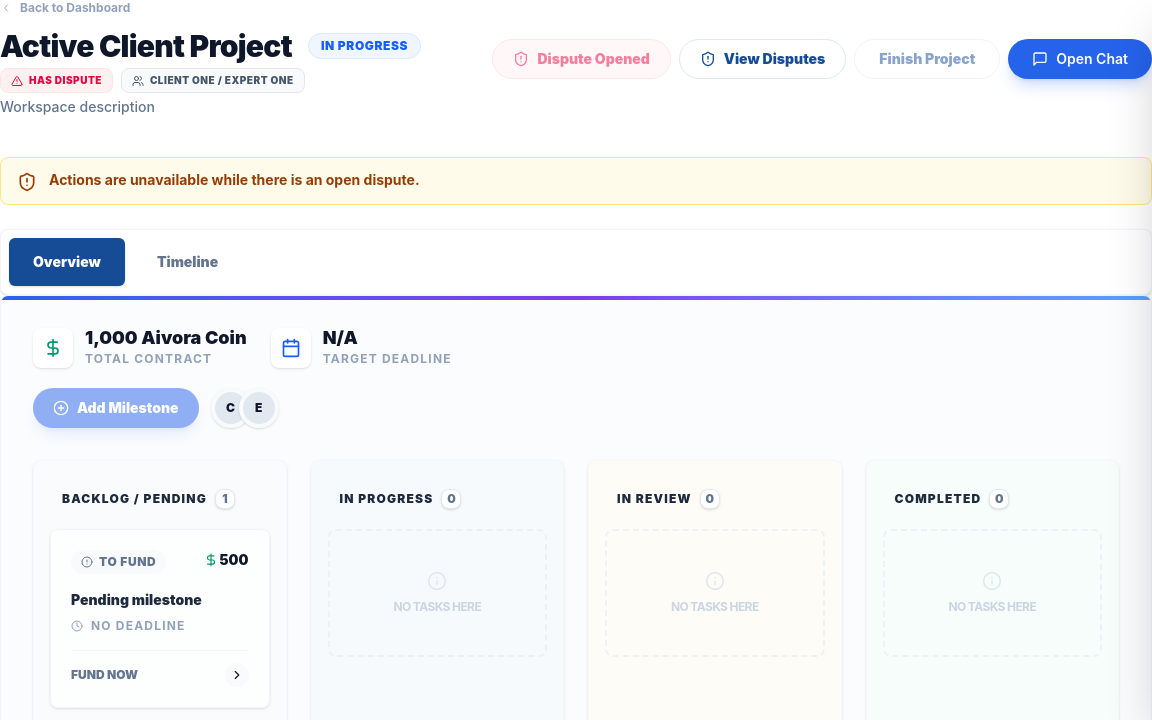
Test case: ProjectWorkspacePage › Fund Milestone dispute guard › disables the timeline-view Fund Milestone button while a project dispute is open
This screenshot has width=1152, height=720.
Click the button "Timeline" at x=188, y=262, box [133, 238, 242, 286]
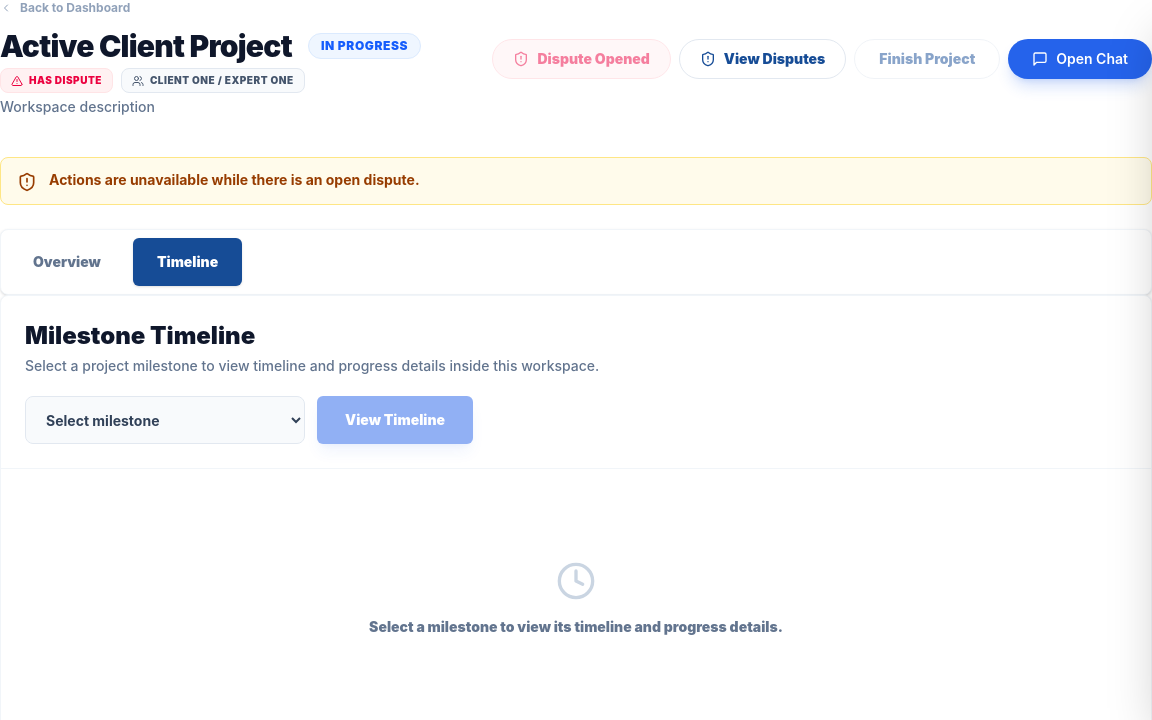
Select "Pending milestone" in the dropdown at x=165, y=420, box [25, 396, 305, 444]
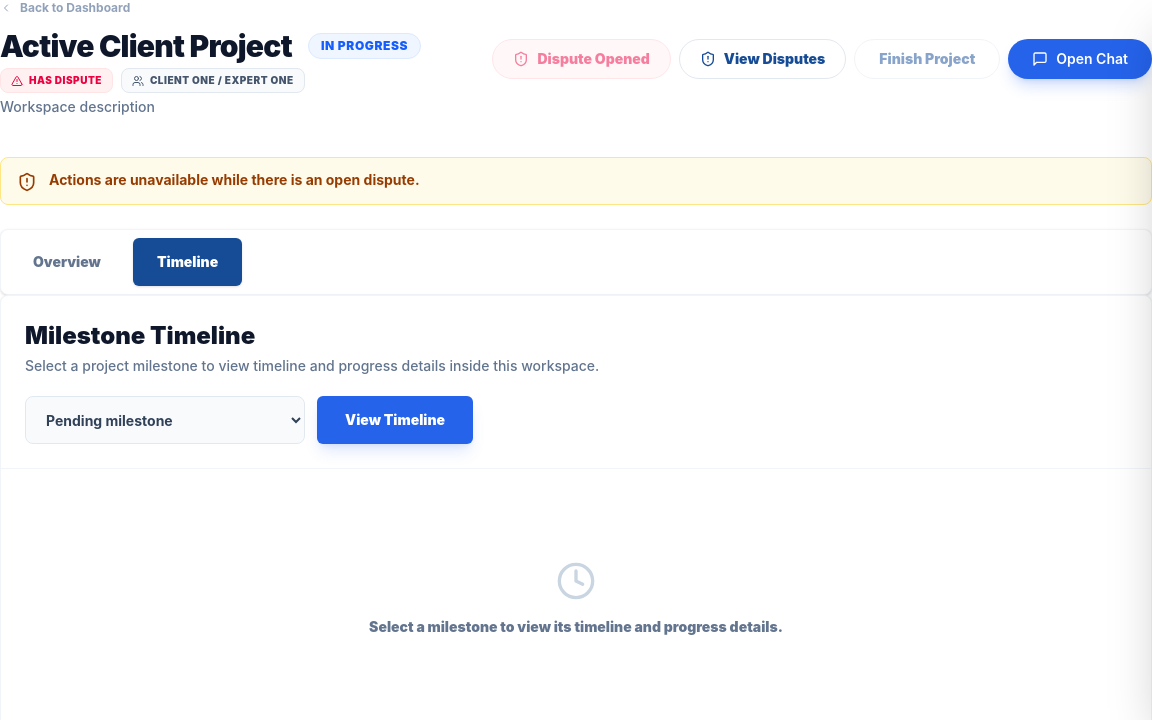
Click the button "View Timeline" at x=395, y=420, box [317, 396, 473, 444]
(page scrolled)
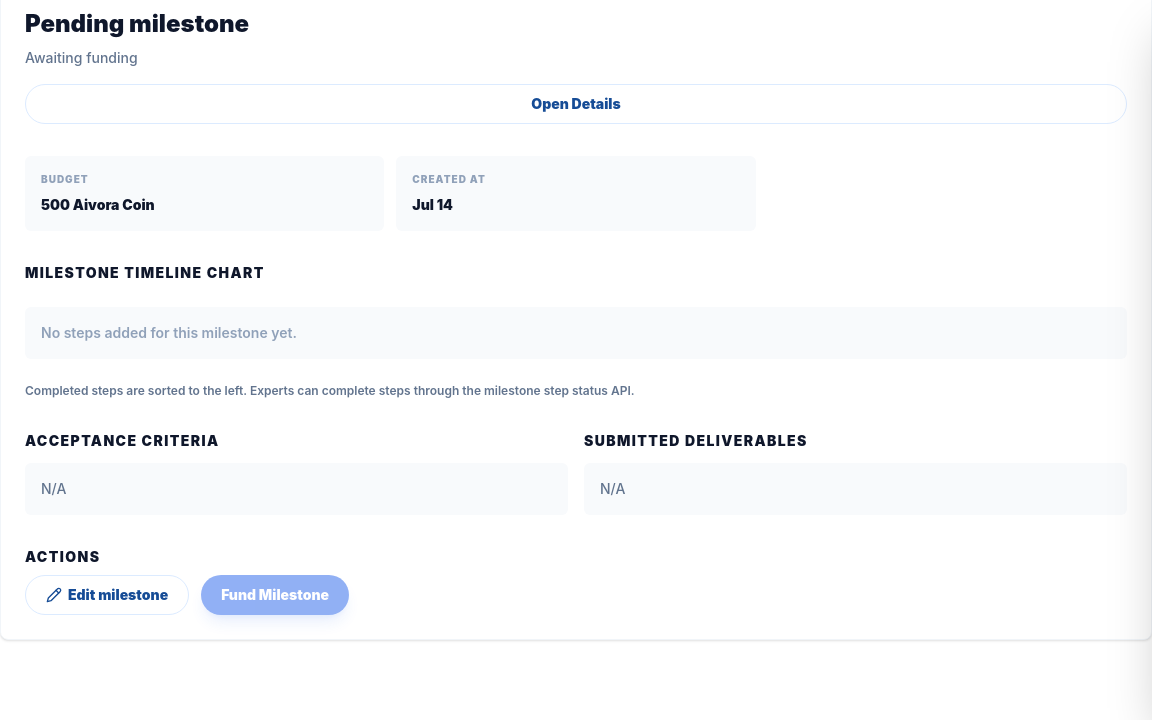
Now the button "Fund Milestone" is disabled, box [201, 575, 349, 615]
